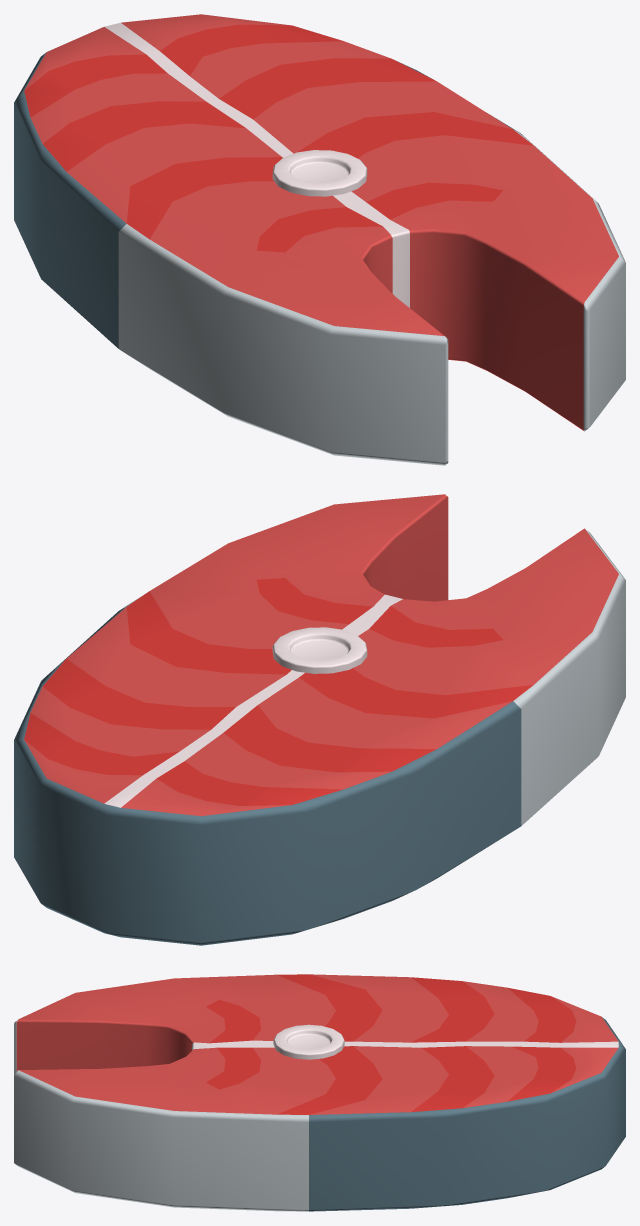
The model's file is Tuna_1_Steak_1.fbx.
3 views of the same model, one above another, from view 1: azimuth 30°, elevation 25°; view 2: azimuth 150°, elevation 25°; view 3: azimuth 270°, elevation 25° (orthographic). The views are drawn at different scales.
Parts seen in each view (by area): view 1: Tuna_1_Steak_1; view 2: Tuna_1_Steak_1; view 3: Tuna_1_Steak_1.
Boxes of the visible parts, x1,y1,x2,y2 form: Tuna_1_Steak_1: [14, 14, 625, 465]; Tuna_1_Steak_1: [14, 494, 625, 945]; Tuna_1_Steak_1: [14, 974, 625, 1211].
Bounding box in the file's own units: 24.63 × 8.44 × 43.48.
